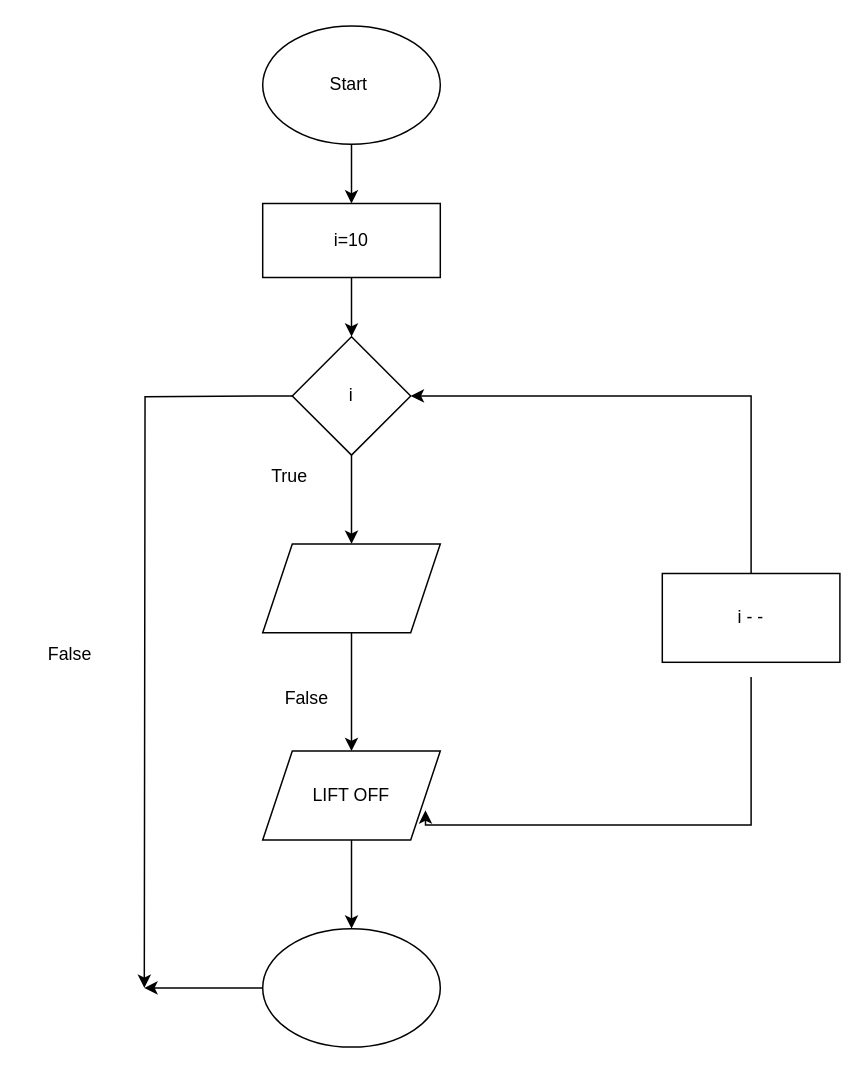
This 866x1073 diagram has some shape labels left out. Each missing label, with the centre of its shape:
END: the point at 350,987
i = i-1: the point at 350,587
